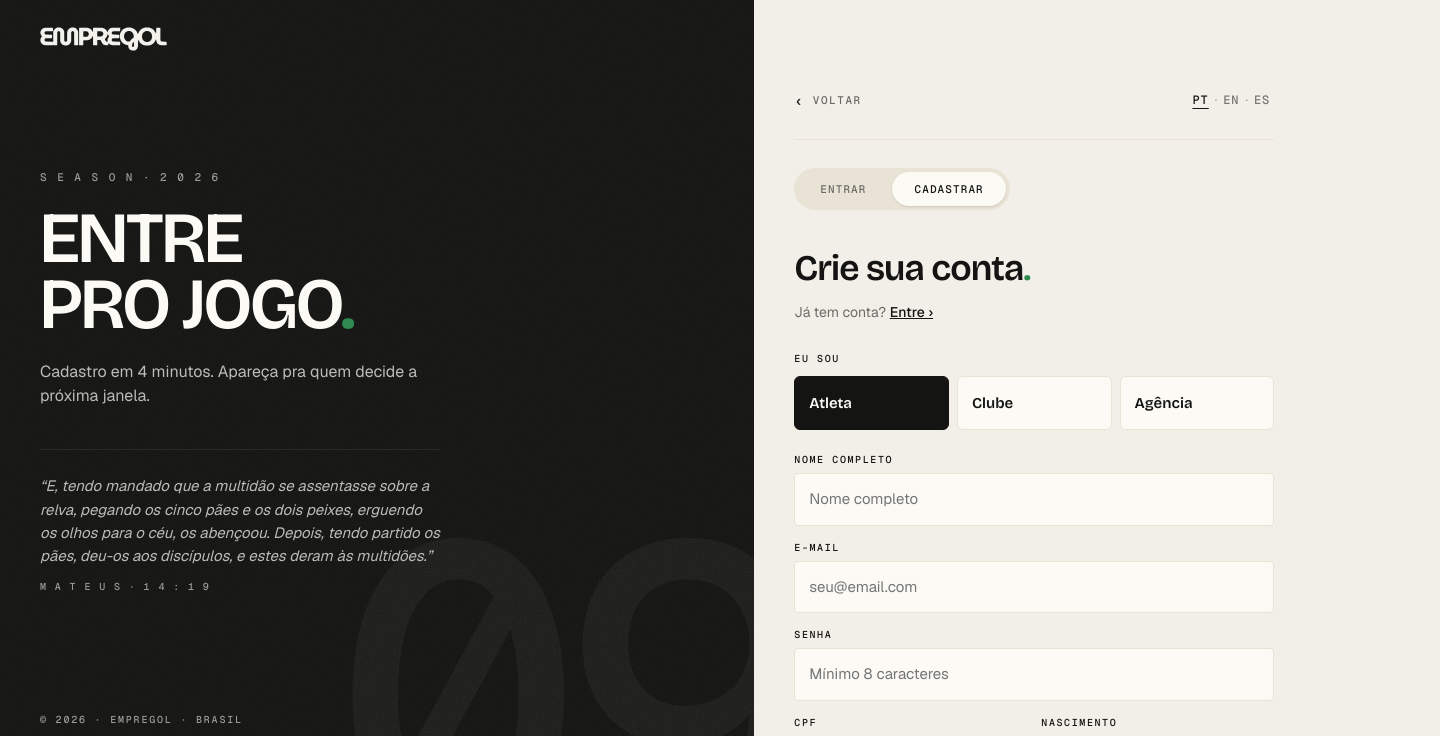
Test case: AuthPage › pede CNPJ e razão social quando o perfil é agência
Click the button "Agência": [1197, 403] box [1120,376,1274,430]
(page scrolled)
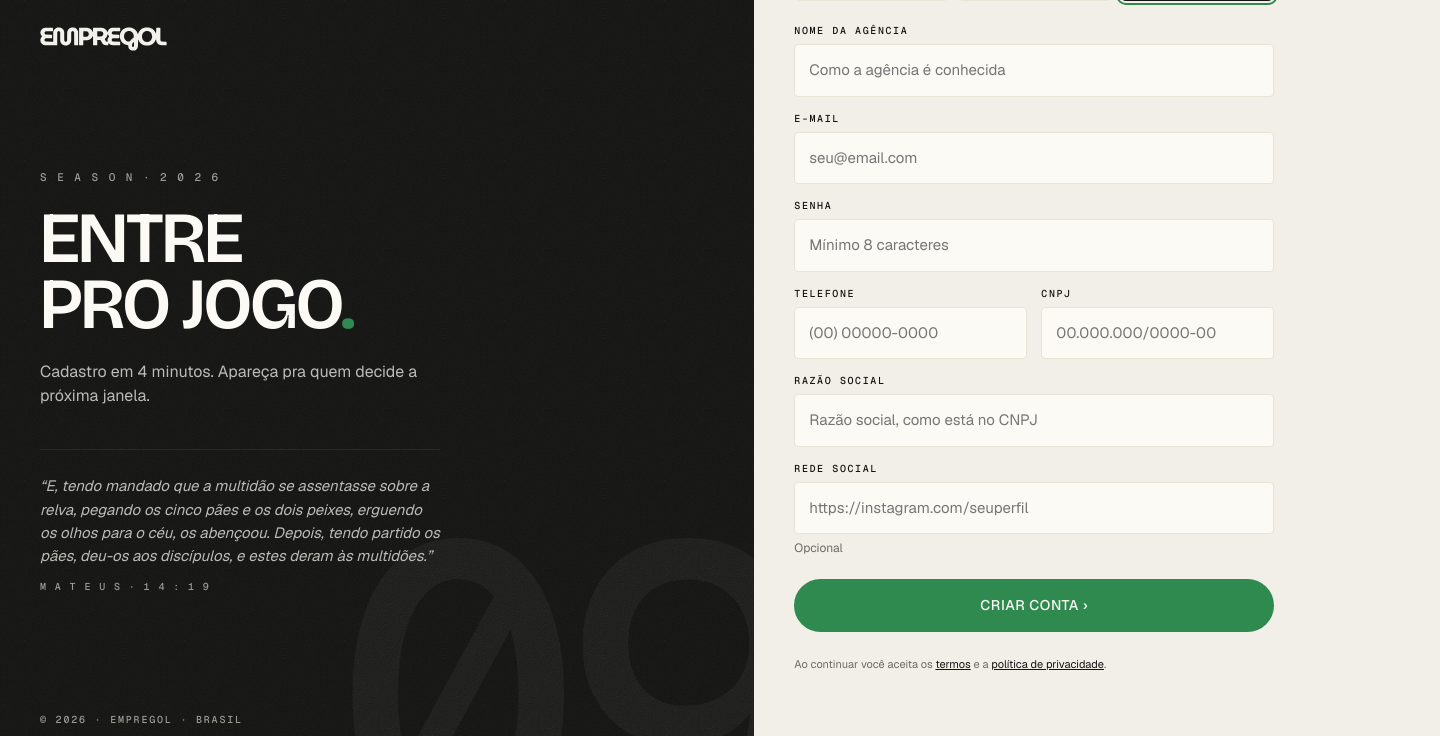
Expected: the field labelled "Nome da agência" is shown, [794,44,1274,96]
Result: the field labelled "Razão social" is shown at [794,394,1274,446]
Result: the label labelled "CPF" is gone
